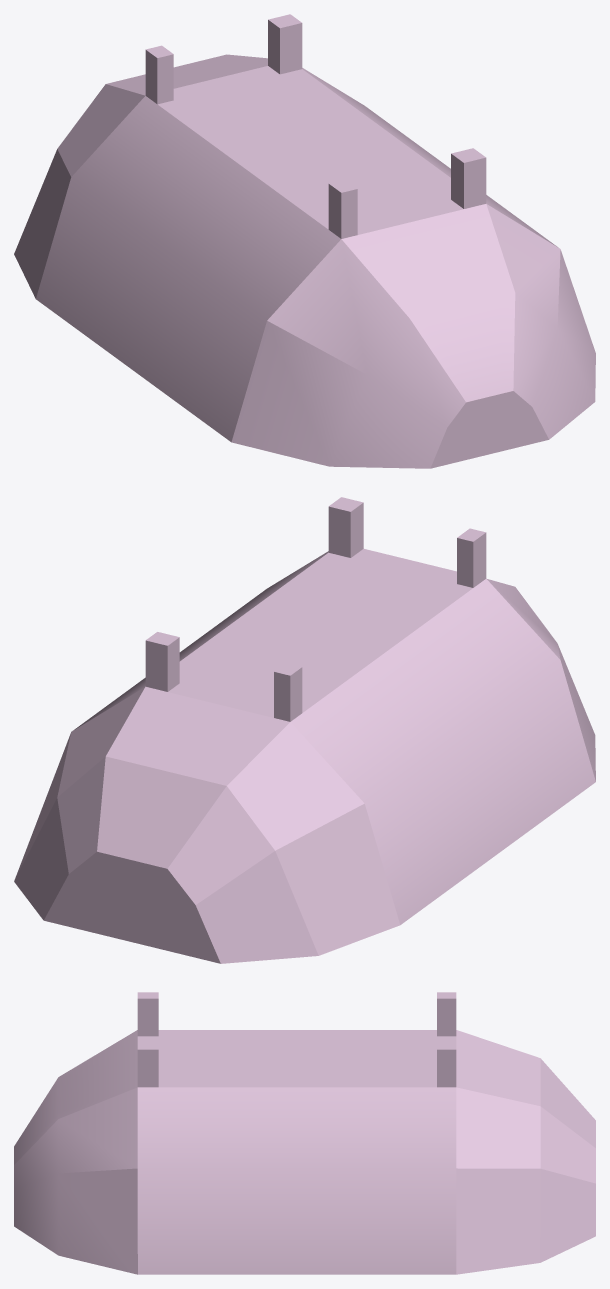
The model's file is bathtub.fbx.
The picture shows the model from 3 angles, top to bottom: view 1: azimuth 30°, elevation 25°; view 2: azimuth 150°, elevation 25°; view 3: azimuth 270°, elevation 25°; orthographic projection. The views are drawn at different scales.
Parts seen in each view (by area): view 1: pCube5; view 2: pCube5; view 3: pCube5.
Part boxes in pixels (x1,y1,x2,y2): pCube5: (14, 14, 595, 468); pCube5: (14, 497, 595, 963); pCube5: (14, 992, 595, 1274).
Bounding box in the file's own units: 2.19 × 1.28 × 3.72.
Materials: 1 (1 with a texture image).
